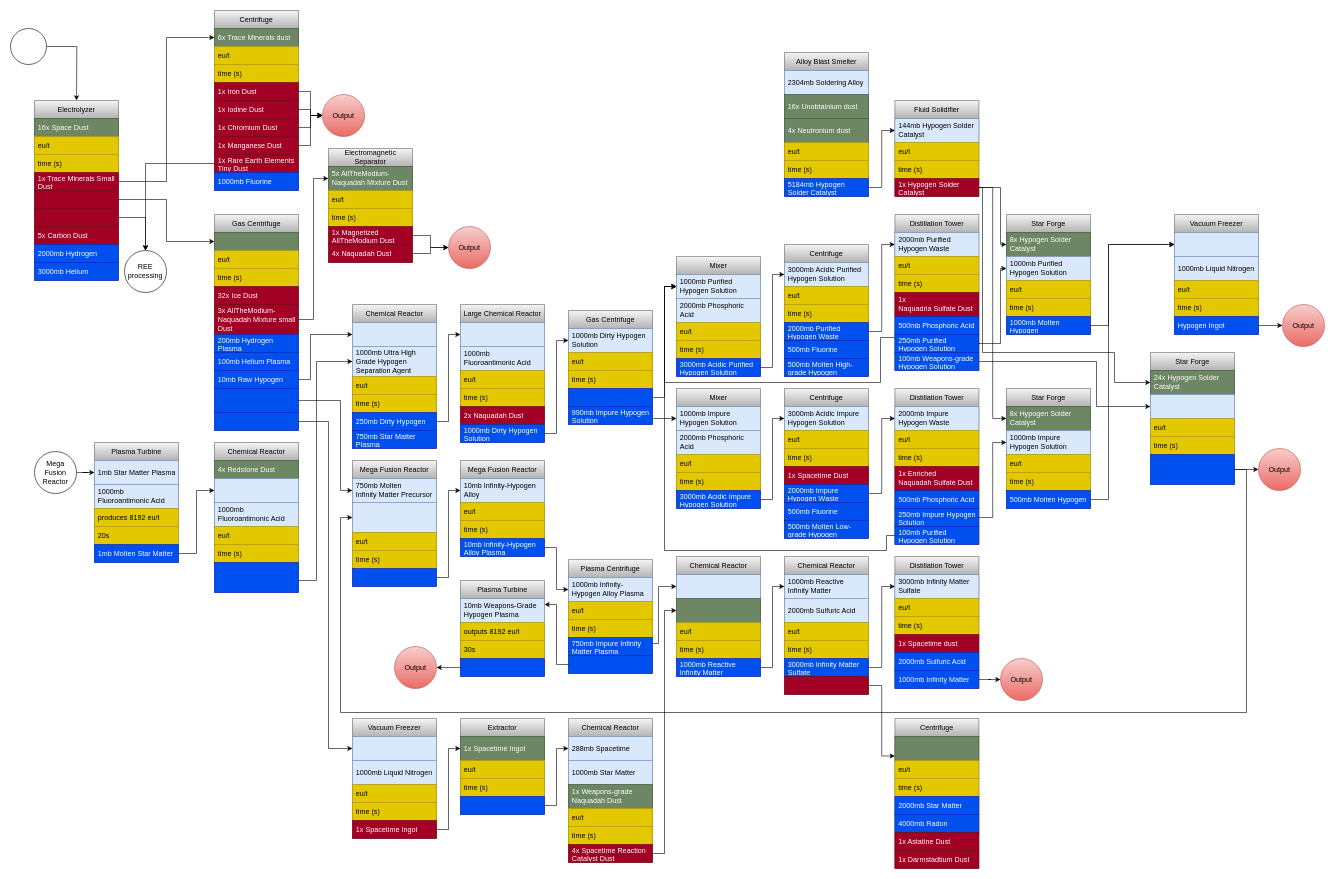
Image size: 1335x879. Some labels were removed from this diagram. Here are the shapes that lost their labels. From the top down, the centre of each, then its label:
At [28,46]: "start".
At [76,199]: "1x Extraterrestial Materials Small Dust".
At [76,217]: "1x Rare Earth dust".
At [256,241]: "40x Extraterrestial Materials Dust".
At [1216,244]: "144mb Molten Hypogen".
At [394,334]: "1000mb Raw Hypogen".
At [502,334]: "1000mb Dirty Hypogen".
At [256,400]: "1mb Molten Infinity Matter Precursor".
At [610,397]: "10mb Purified Hypogen Solution".
At [1192,406]: "1000mb Weapons-grade Hypogen Solution".
At [256,421]: "1mb Molten Spacetime".
At [1192,469]: "1000mb Molten Weapons-grade Hypogen".
At [256,490]: "500mb Molten Star Matter".
At [394,517]: "250mb Molten Weapons-Grade Hypogen".
At [256,577]: "1500mb Ultra High Grade Hypogen Separation Agent".
At [394,577]: "1000mb Infinity-Hypogen Alloy".
At [718,586]: "1000mb Impure Infinity Matter Plasma".
At [718,610]: "2x Spacetime Reaction Catalyst Dust".
At [502,667]: "10mb Liquid Weapons-Grade Hypogen".
At [610,664]: "250mb Weapons-Grade Hypogen Plasma".
At [826,685]: "2x Spacetime Junk Dust".
At [394,748]: "144mb Molten Spacetime".
At [936,748]: "7x Spacetime Junk Dust".
At [502,805]: "144mb Spacetime".
